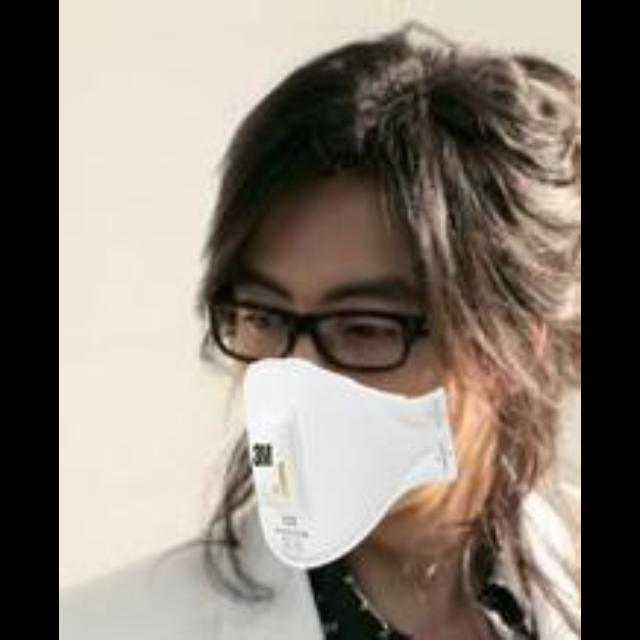suspicion: (190, 91, 568, 563)
